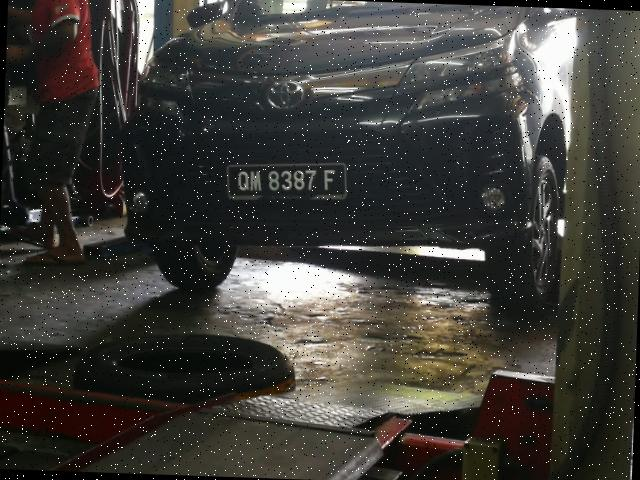License_Plate: (229, 161, 348, 204)
car: (112, 1, 624, 320)
